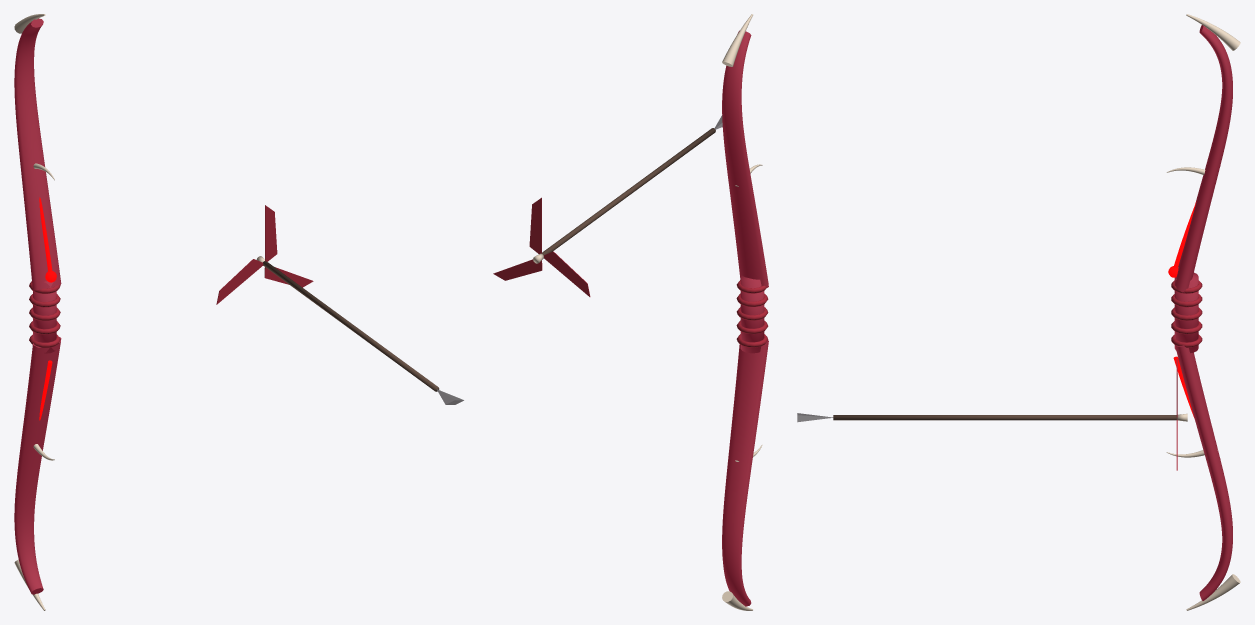
The model's file is bow.glb.
3 renders of one model, left to right at view 1: azimuth 30°, elevation 25°; view 2: azimuth 150°, elevation 25°; view 3: azimuth 270°, elevation 25°, orthographic.
Visible parts, largest first — view 1: limb1, limb-1, shaft, riser, fletch2; view 2: limb-1, limb1, shaft, riser, fletch2, fletch0, fletch1, tip1; view 3: limb1, limb-1, shaft, riser.
Part boxes in pixels (box(x1,y1,x2,y2)): limb1: box(14, 18, 61, 290); limb-1: box(14, 337, 61, 594); shaft: box(263, 261, 439, 391); riser: box(33, 281, 56, 353); fletch2: box(216, 259, 263, 304); limb-1: box(722, 340, 768, 606); limb1: box(722, 30, 768, 287); shaft: box(542, 128, 715, 255); riser: box(740, 275, 764, 353); fletch2: box(543, 251, 590, 296); fletch0: box(529, 197, 541, 253); fletch1: box(493, 259, 542, 280); tip1: box(722, 14, 752, 66); limb1: box(1174, 25, 1232, 292); limb-1: box(1175, 345, 1232, 600); shaft: box(833, 415, 1177, 420); riser: box(1174, 272, 1198, 353).
Bounding box in the file's own units: 0.6456 × 1.32 × 0.891.
